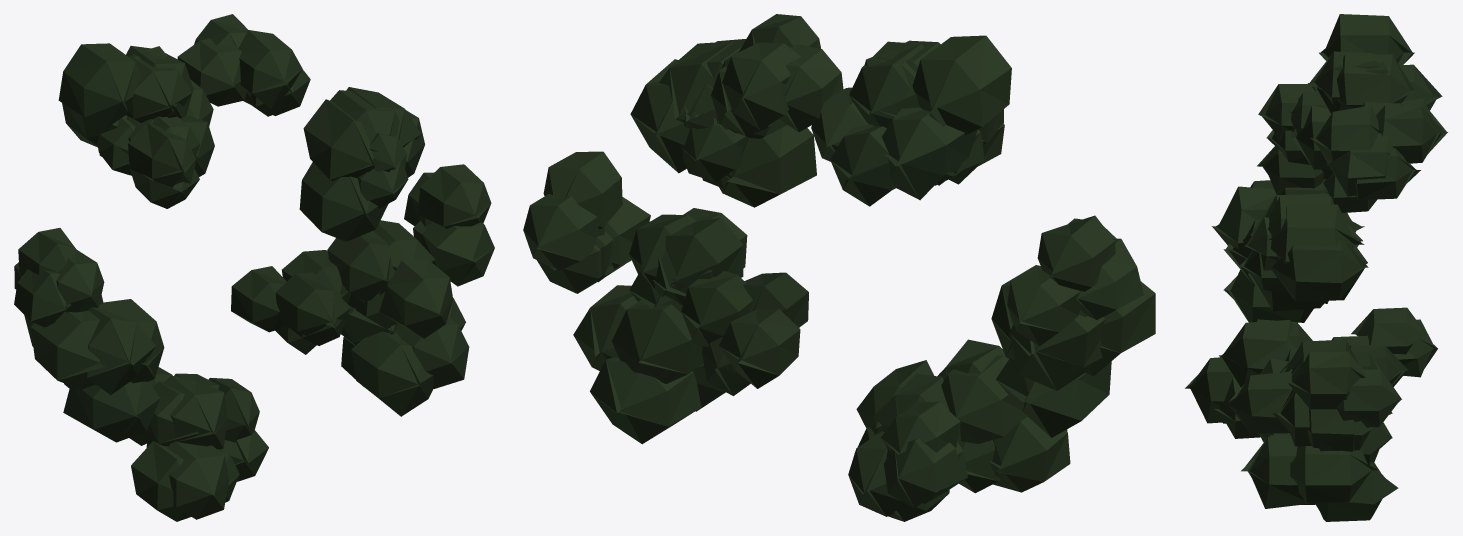
The model's file is tree_m9_far.obj.
The picture shows the model from 3 angles, left to right: view 1: azimuth 30°, elevation 25°; view 2: azimuth 150°, elevation 25°; view 3: azimuth 270°, elevation 25°; orthographic projection. The views are drawn at different scales.
Bounding box in the file's own units: 1.91 × 1.64 × 0.9674.
Materials: 1 (1 with a texture image).
